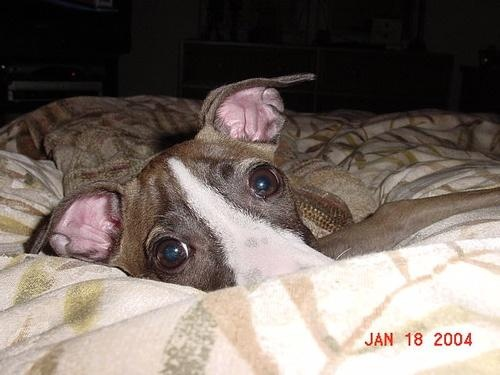dog: (36, 74, 499, 292)
